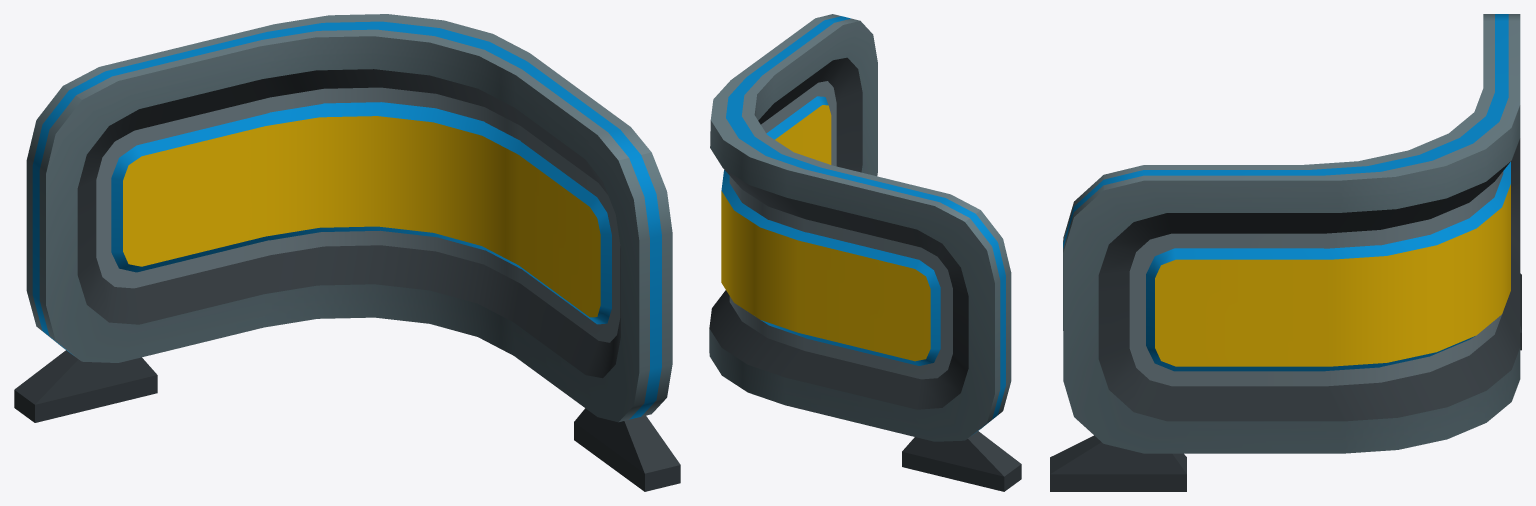
The model's file is Fence_type_C_015.fbx.
3 views of the same model, side by side, from view 1: azimuth 30°, elevation 25°; view 2: azimuth 150°, elevation 25°; view 3: azimuth 270°, elevation 25° (orthographic). The views are drawn at different scales.
Visible parts, largest first — view 1: Fence_type_C_015; view 2: Fence_type_C_015; view 3: Fence_type_C_015.
Boxes of the visible parts, <box> form: Fence_type_C_015: <box>14,14,680,491</box>; Fence_type_C_015: <box>709,14,1021,491</box>; Fence_type_C_015: <box>1050,14,1521,491</box>.
Bounding box in the file's own units: 195 × 194 × 141.
